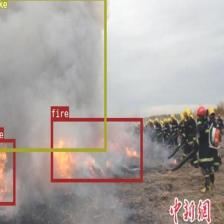fire: (51, 118, 142, 182), (0, 139, 15, 204)
smoke: (0, 0, 106, 151)
